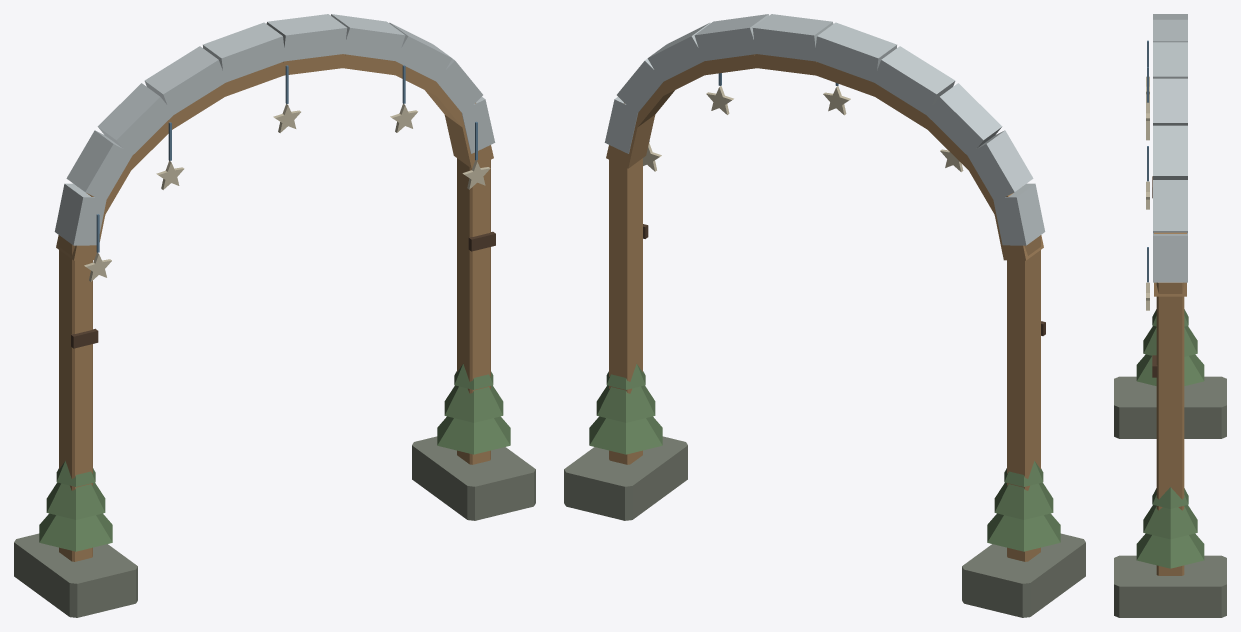
Rendered from festival_arch_winter.glb.
The picture shows the model from 3 angles, left to right: view 1: azimuth 30°, elevation 25°; view 2: azimuth 150°, elevation 25°; view 3: azimuth 270°, elevation 25°; orthographic projection. The views are drawn at different scales.
Parts seen in each view (by area): view 1: geometry; view 2: geometry; view 3: geometry.
Part boxes in pixels (x1,y1,x2,y2): geometry: (14, 14, 535, 617); geometry: (564, 14, 1085, 617); geometry: (1114, 14, 1226, 617).
Bounding box in the file's own units: 2.89 × 2.99 × 0.65.
